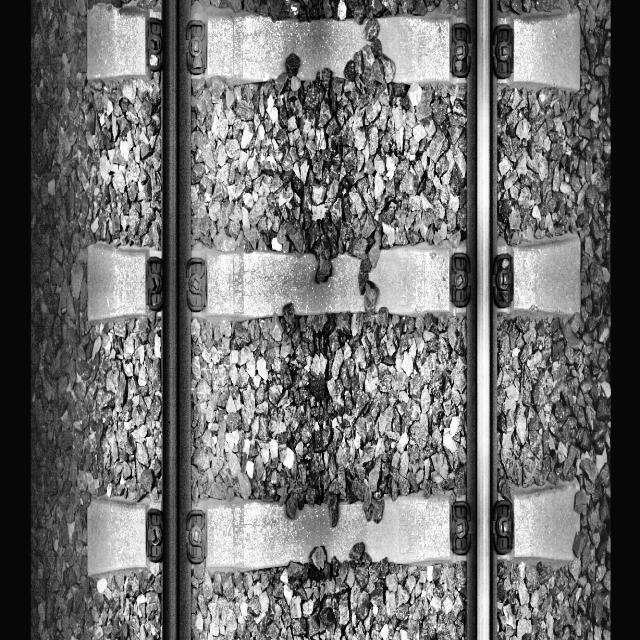Clips: (448, 250, 473, 306), (183, 19, 208, 74), (448, 20, 472, 76), (184, 508, 207, 566), (491, 502, 516, 555), (491, 23, 514, 78), (492, 252, 514, 308), (144, 507, 165, 565), (185, 258, 208, 310), (451, 501, 472, 556), (144, 16, 164, 69), (145, 255, 163, 312)
Sleepers: (86, 0, 582, 94), (85, 241, 581, 314), (90, 498, 577, 571)
